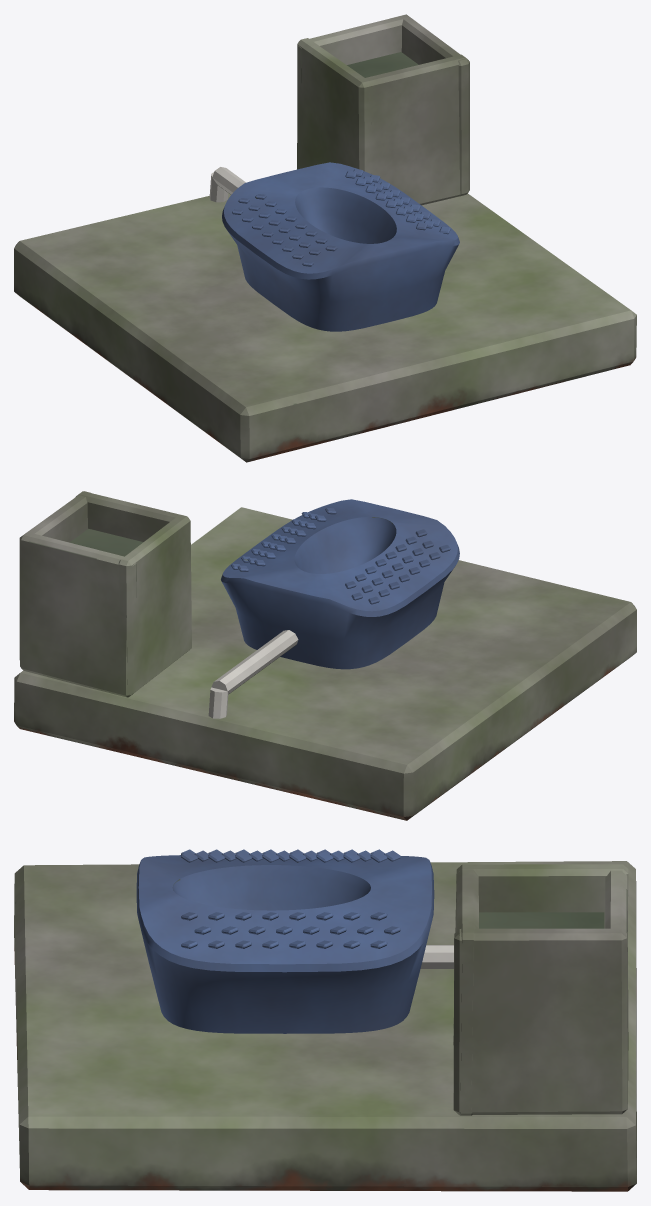
File: SquatToilet.fbx
The picture shows the model from 3 angles, top to bottom: view 1: azimuth 30°, elevation 25°; view 2: azimuth 150°, elevation 25°; view 3: azimuth 270°, elevation 25°; orthographic projection. The views are drawn at different scales.
Visible parts, largest first — view 1: SquatToilet, SquatToilet_Water; view 2: SquatToilet, SquatToilet_Water; view 3: SquatToilet, SquatToilet_Water.
Part boxes in pixels (bbox=[...]): SquatToilet: bbox=[14, 14, 636, 462]; SquatToilet_Water: bbox=[347, 52, 418, 77]; SquatToilet: bbox=[14, 491, 636, 820]; SquatToilet_Water: bbox=[70, 528, 143, 556]; SquatToilet: bbox=[14, 849, 636, 1191]; SquatToilet_Water: bbox=[479, 912, 604, 928].
Bounding box in the file's own units: 95.41 × 43.9 × 95.91.
Materials: 1 (1 with a texture image).
